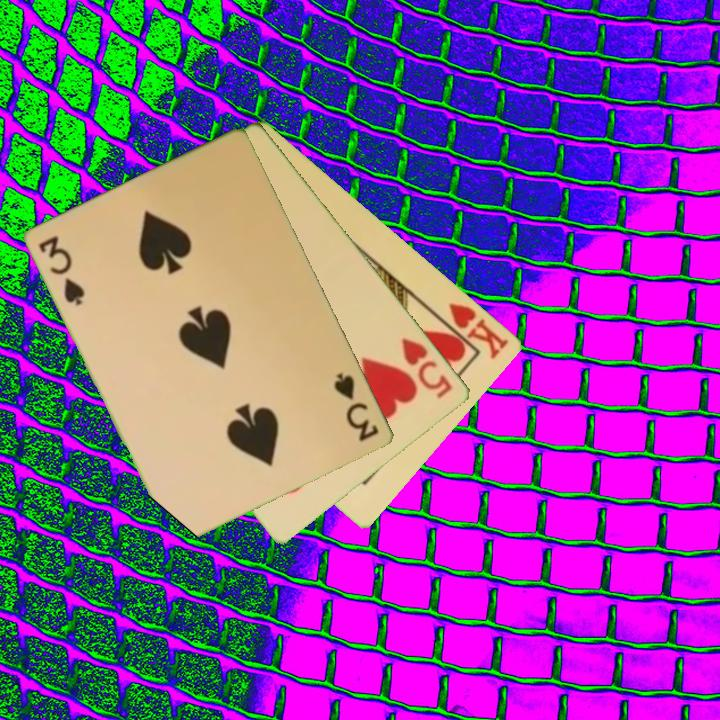3s: (36, 232, 89, 309), (330, 369, 382, 445)
5h: (398, 334, 456, 401)
Kh: (432, 299, 513, 362)
